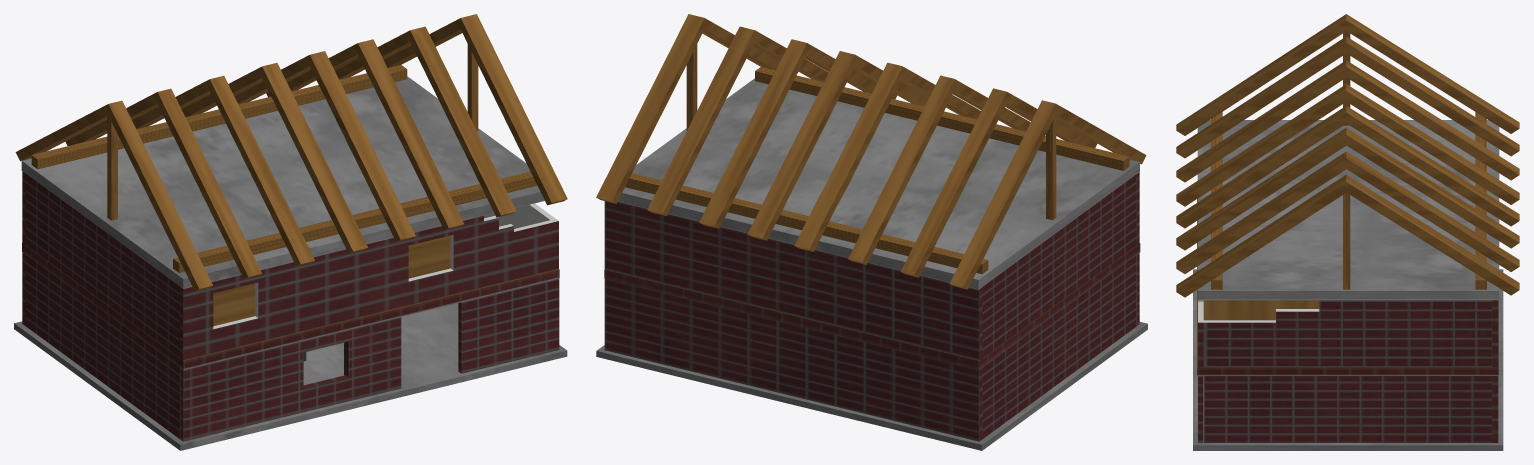
File: House.fbx
3 views of the same model, side by side, from view 1: azimuth 30°, elevation 25°; view 2: azimuth 150°, elevation 25°; view 3: azimuth 270°, elevation 25° (orthographic). The views are drawn at different scales.
Parts seen in each view (by area): view 1: Construction_house; view 2: Construction_house; view 3: Construction_house.
Part boxes in pixels (x1,y1,x2,y2): Construction_house: (14,14,567,450); Construction_house: (596,14,1147,450); Construction_house: (1176,14,1519,450).
Bounding box in the file's own units: 12.02 × 8.44 × 9.89.
Materials: 1 (1 with a texture image).
